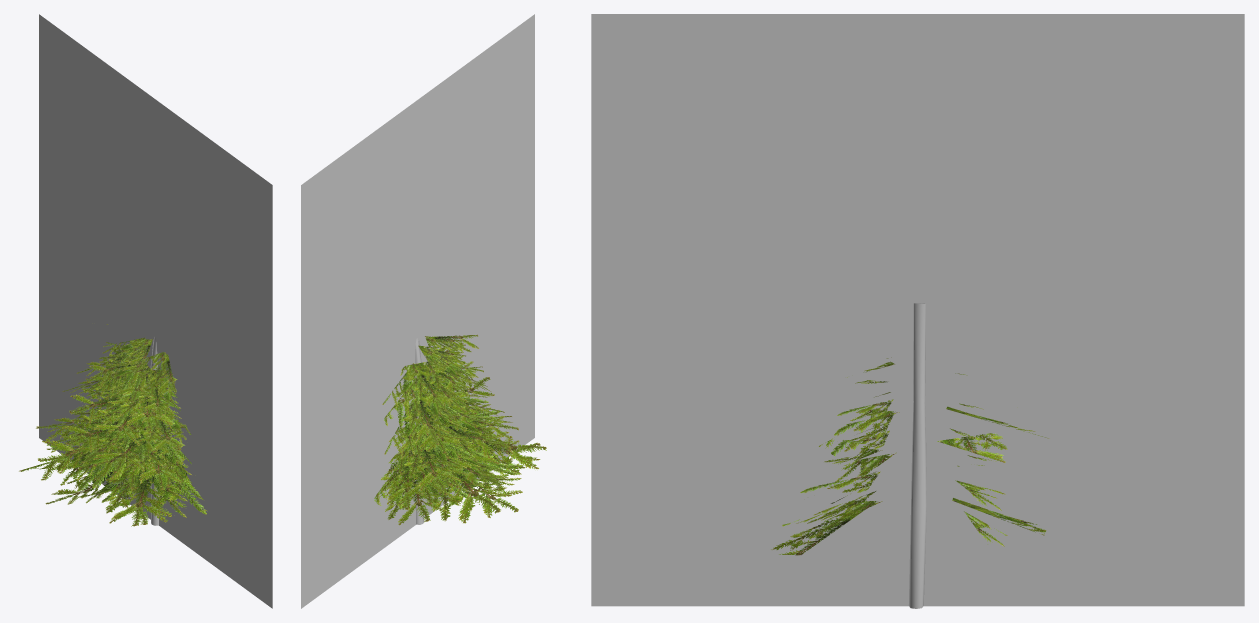
Rendered from QuarterFirTree.fbx.
The picture shows the model from 3 angles, left to right: view 1: azimuth 30°, elevation 25°; view 2: azimuth 150°, elevation 25°; view 3: azimuth 270°, elevation 25°; orthographic projection. The views are drawn at different scales.
Visible parts, largest first — view 1: Quad, FirTreeBranches; view 2: Quad, FirTreeBranches; view 3: Quad, FirTreeBranches, Trunk.
Boxes of the visible parts, left/top/right/bottom form: Quad: left=39, top=14, right=272, bottom=608; FirTreeBranches: left=19, top=324, right=206, bottom=526; Quad: left=301, top=14, right=534, bottom=608; FirTreeBranches: left=374, top=334, right=546, bottom=525; Quad: left=591, top=14, right=1244, bottom=606; FirTreeBranches: left=771, top=357, right=1049, bottom=555; Trunk: left=908, top=303, right=926, bottom=608.
Size of the model in its own units: 386 by 930 by 930.
